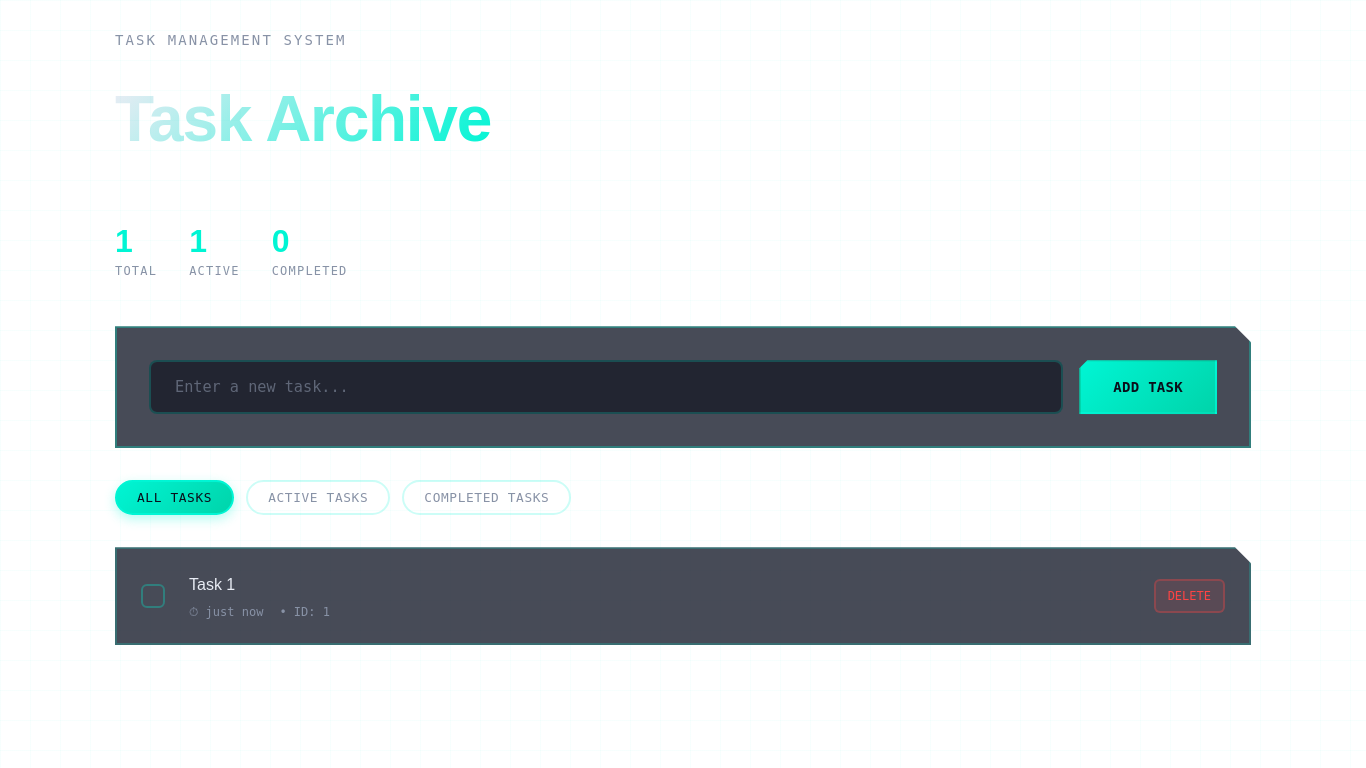
Test: TodoManager Component › Filtering › shows empty state when filter has no results
expect the text "Task 1" is shown: met, box [189,576,235,593]
Step 1. Click the button "Completed Tasks" → point(487, 498), box [402,480,572,515]
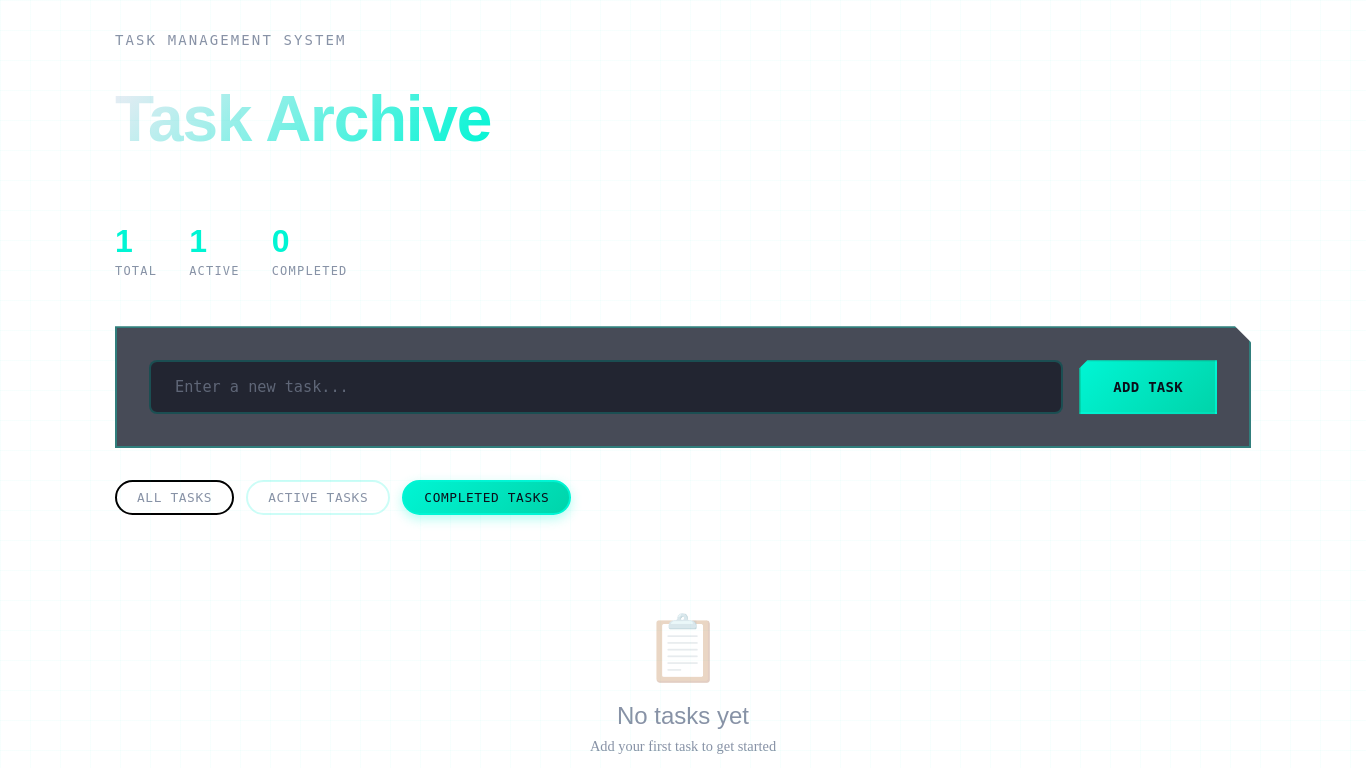
expect the text "No tasks yet" is shown: met, box [617,702,749,729]
